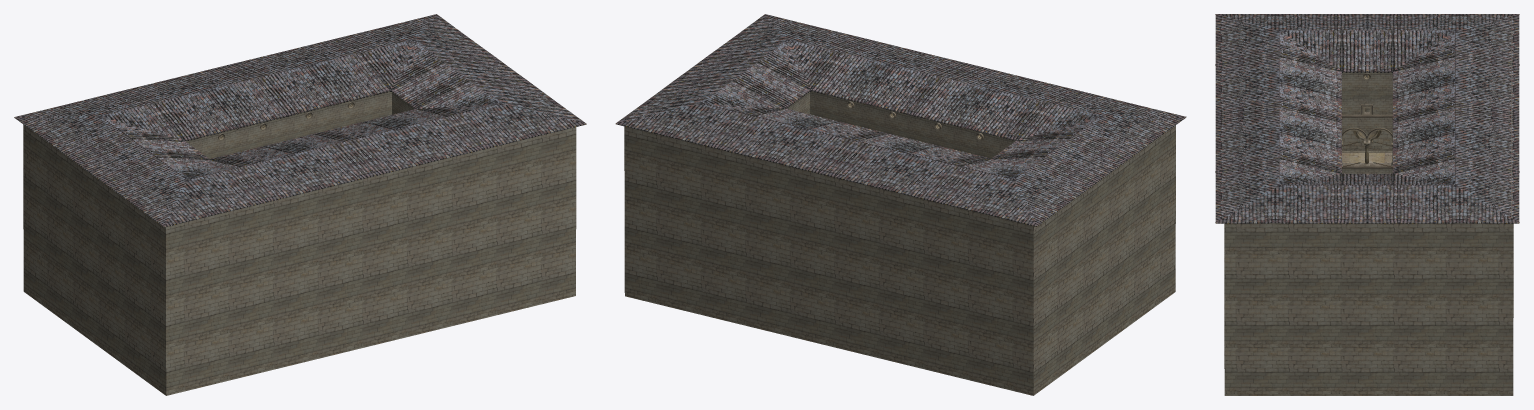
The model's file is sponza.gltf.
3 views of the same model, side by side, from view 1: azimuth 30°, elevation 25°; view 2: azimuth 150°, elevation 25°; view 3: azimuth 270°, elevation 25° (orthographic).
Bounding box in the file's own units: 29.77 × 12.45 × 18.31.
25 materials, 24 textured.
